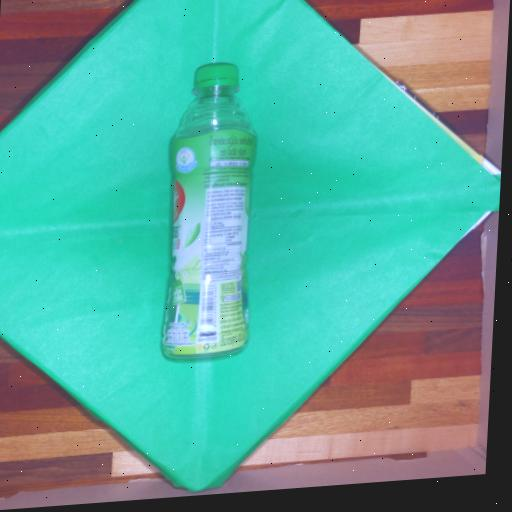bottle: (162, 63, 255, 358)
